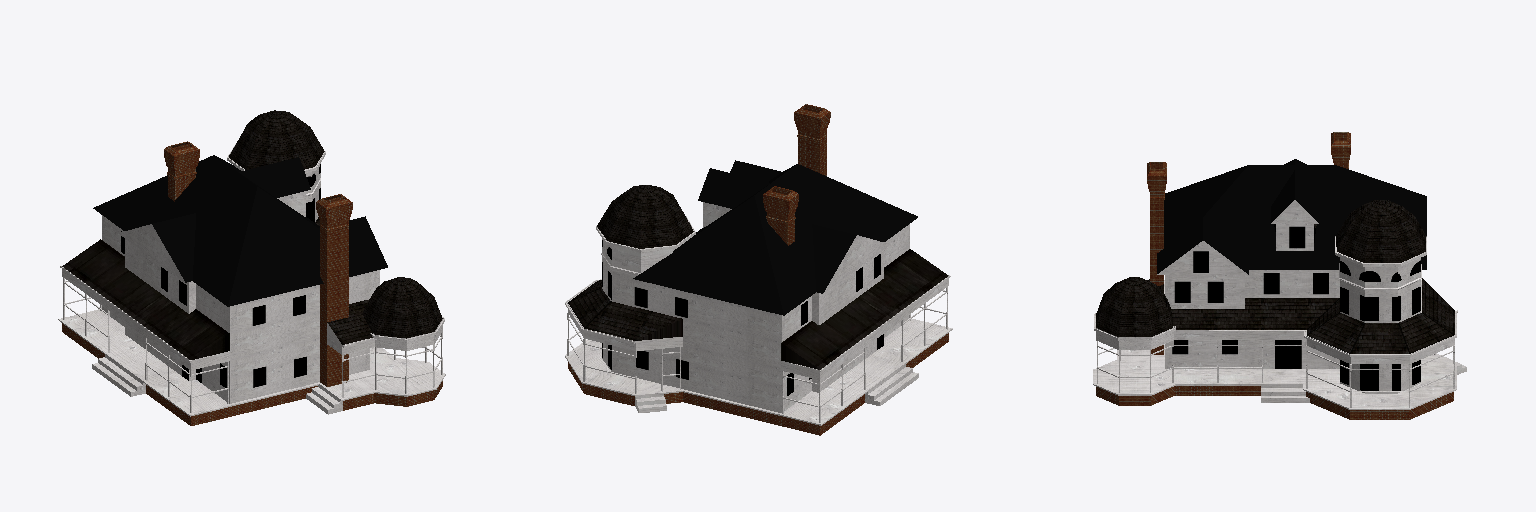
The picture shows the model from 3 angles: view 1: azimuth 30°, elevation 25°; view 2: azimuth 150°, elevation 25°; view 3: azimuth 270°, elevation 25°; orthographic projection.
Parts seen in each view (by area): view 1: c30house; view 2: c30house; view 3: c30house.
Part boxes in pixels (bbox=[...]): c30house: bbox=[58, 110, 445, 425]; c30house: bbox=[565, 104, 952, 435]; c30house: bbox=[1093, 132, 1466, 419].
Size of the model in its own units: 441 by 300 by 517.
Materials: 11 (9 with a texture image).